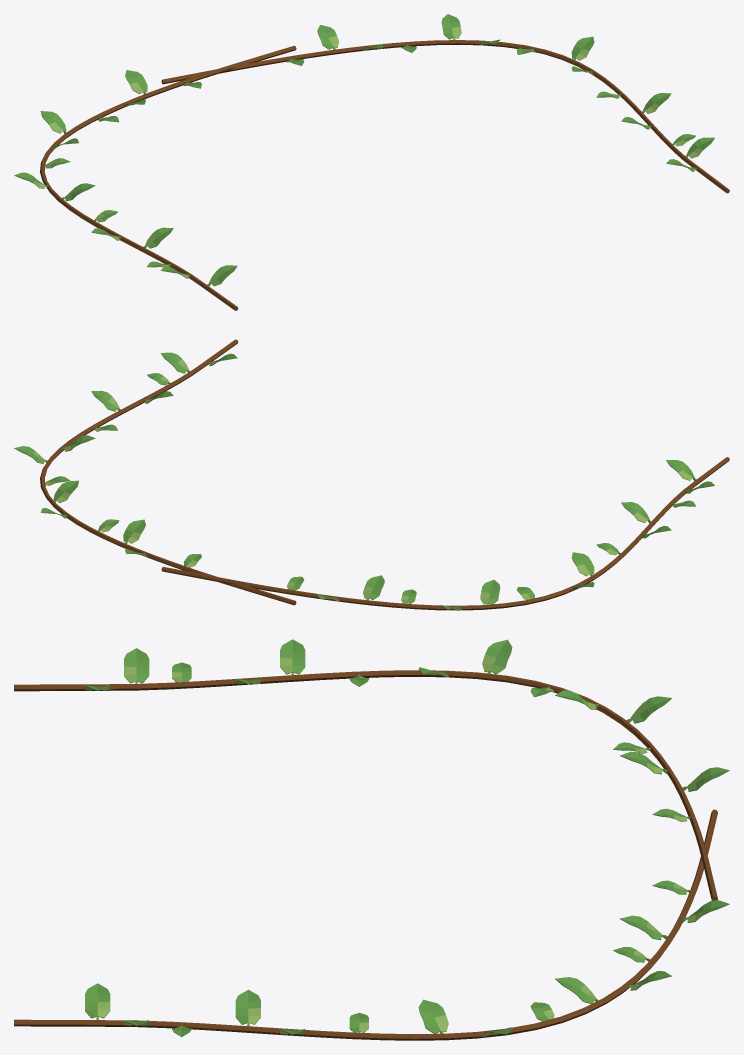
Rendered from CLOSEGATE_VINES.fbx.
The picture shows the model from 3 angles, top to bottom: view 1: azimuth 30°, elevation 25°; view 2: azimuth 150°, elevation 25°; view 3: azimuth 270°, elevation 25°; orthographic projection. The views are drawn at different scales.
Parts seen in each view (by area): view 1: Cylinder, Cylinder.015; view 2: Cylinder.015, Cylinder; view 3: Cylinder, Cylinder.015.
Boxes of the visible parts, x1,y1,x2,y2 form: Cylinder: (161,14,729,193); Cylinder.015: (14,45,296,310); Cylinder.015: (161,457,729,610); Cylinder: (14,339,296,605); Cylinder: (14,809,729,1040); Cylinder.015: (14,639,729,900).
Bounding box in the file's own units: 5277 × 155 × 4075.
